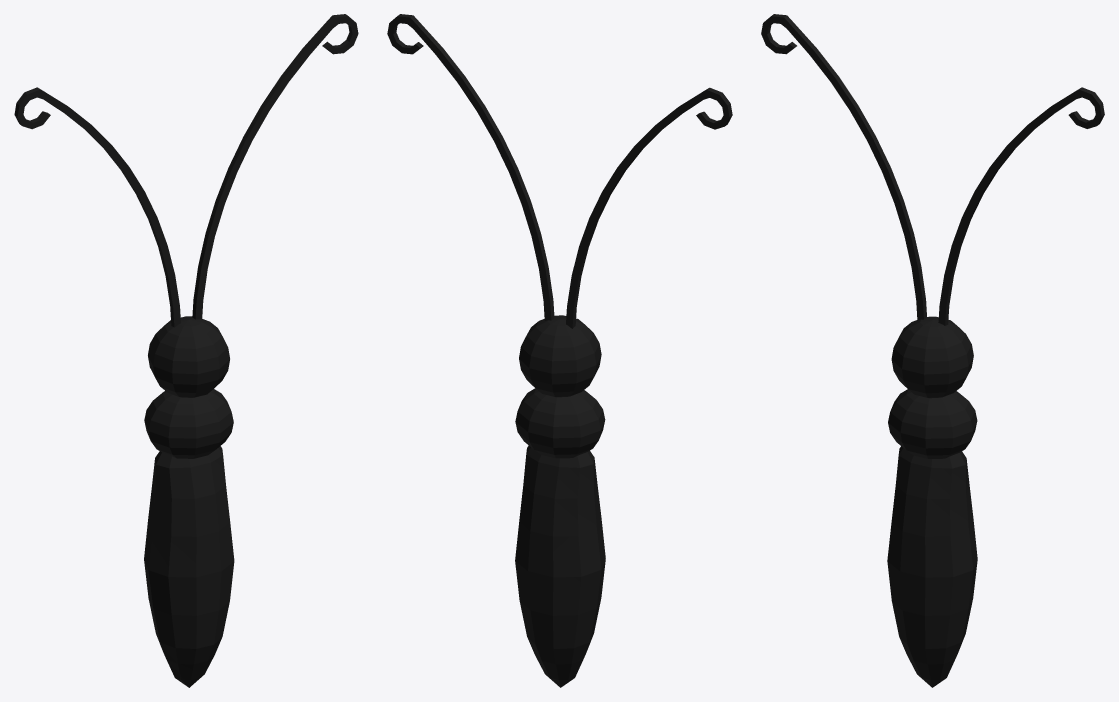
Rendered from FlowtEnemyBody.fbx.
3 views of the same model, side by side, from view 1: azimuth 30°, elevation 25°; view 2: azimuth 150°, elevation 25°; view 3: azimuth 330°, elevation 25° (orthographic).
Visible parts, largest first — view 1: polySurface594; view 2: polySurface594; view 3: polySurface594.
Part boxes in pixels (bbox=[...]): polySurface594: bbox=[14, 14, 358, 687]; polySurface594: bbox=[387, 14, 732, 687]; polySurface594: bbox=[761, 14, 1104, 687].
Bounding box in the file's own units: 0.7574 × 1.35 × 0.1524.
1 material, 1 textured.
